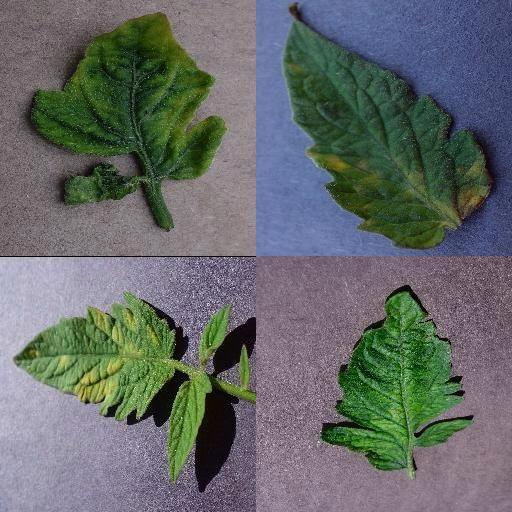Healthy: (167, 378, 211, 480)
Leaf Mold: (282, 3, 491, 251), (11, 290, 177, 422)
Mosaic Virus: (319, 287, 475, 469)
Yellow Leaf Curl Virus: (30, 11, 226, 179)
